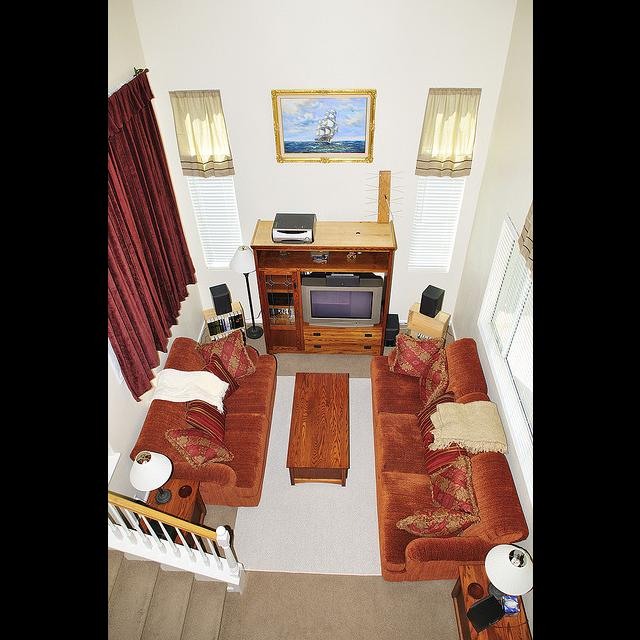Flat-Panel-TV: (301, 274, 385, 326)
